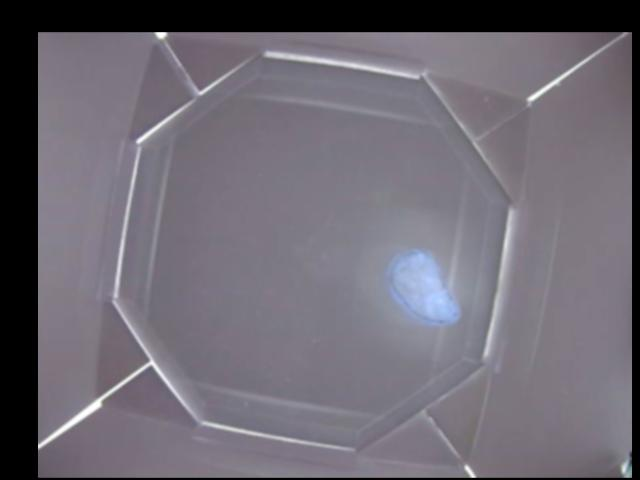Pebble: (386, 250, 464, 323)
